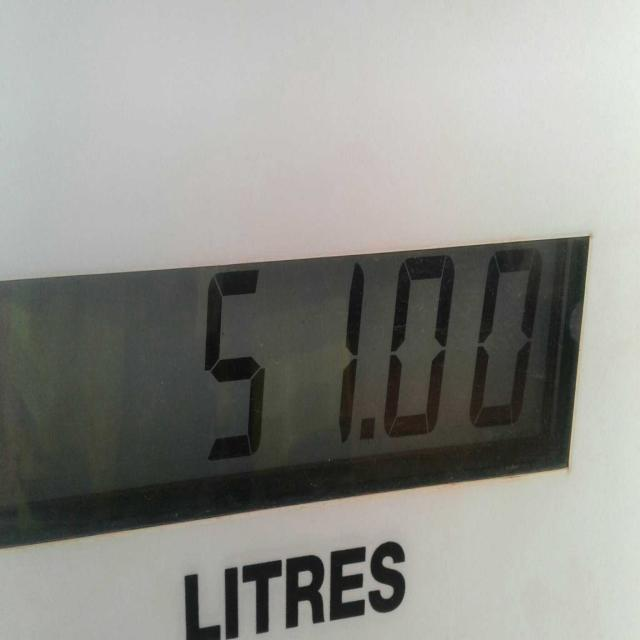.: (363, 397, 393, 470)
0: (378, 260, 468, 477), (475, 253, 557, 446)
1: (328, 265, 365, 450)
5: (195, 278, 280, 471)
